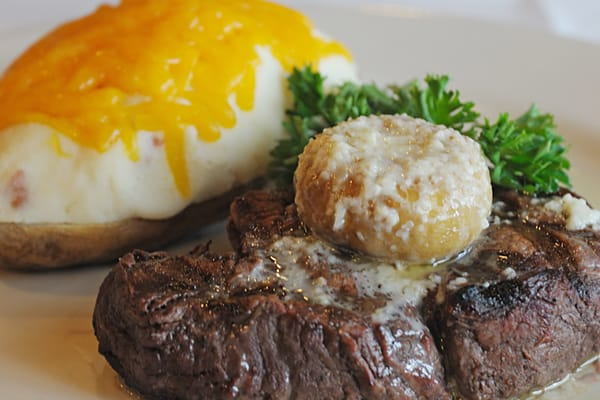soup: (0, 0, 358, 268)
